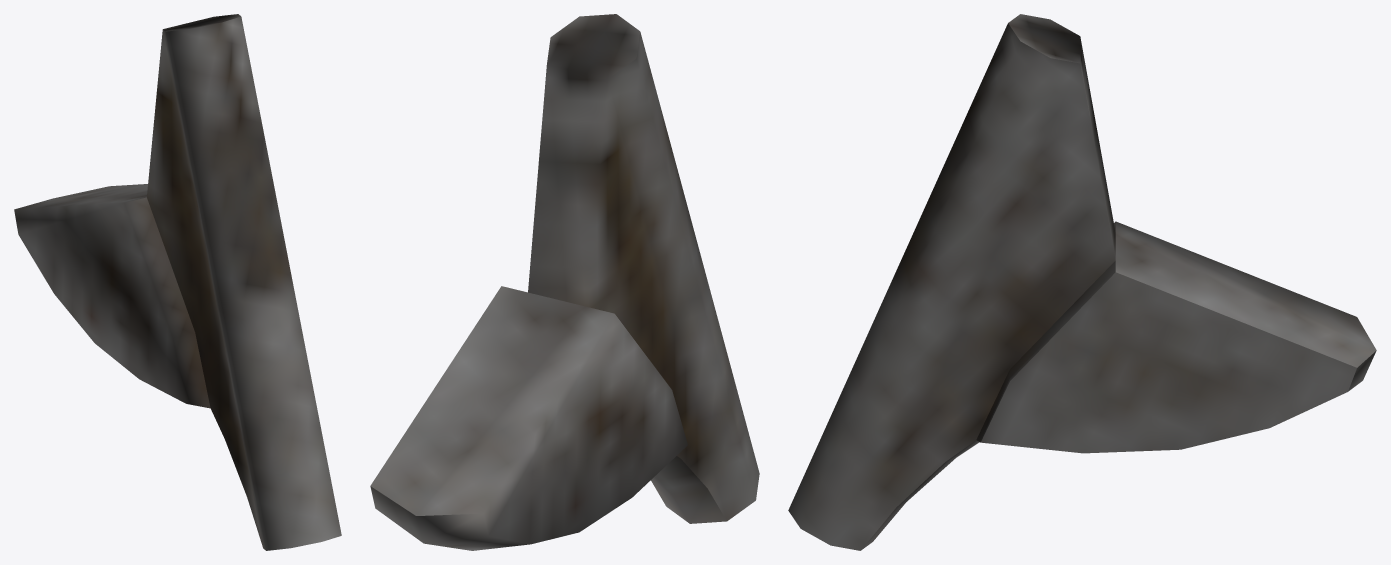
Rendered from Adjustable_Wrench_S_Slide_low.obj.
3 views of the same model, side by side, from view 1: azimuth 30°, elevation 25°; view 2: azimuth 150°, elevation 25°; view 3: azimuth 270°, elevation 25° (orthographic). The views are drawn at different scales.
Size of the model in its own units: 0.00688 by 0.0327 by 0.0336.
1 material, 1 textured.
